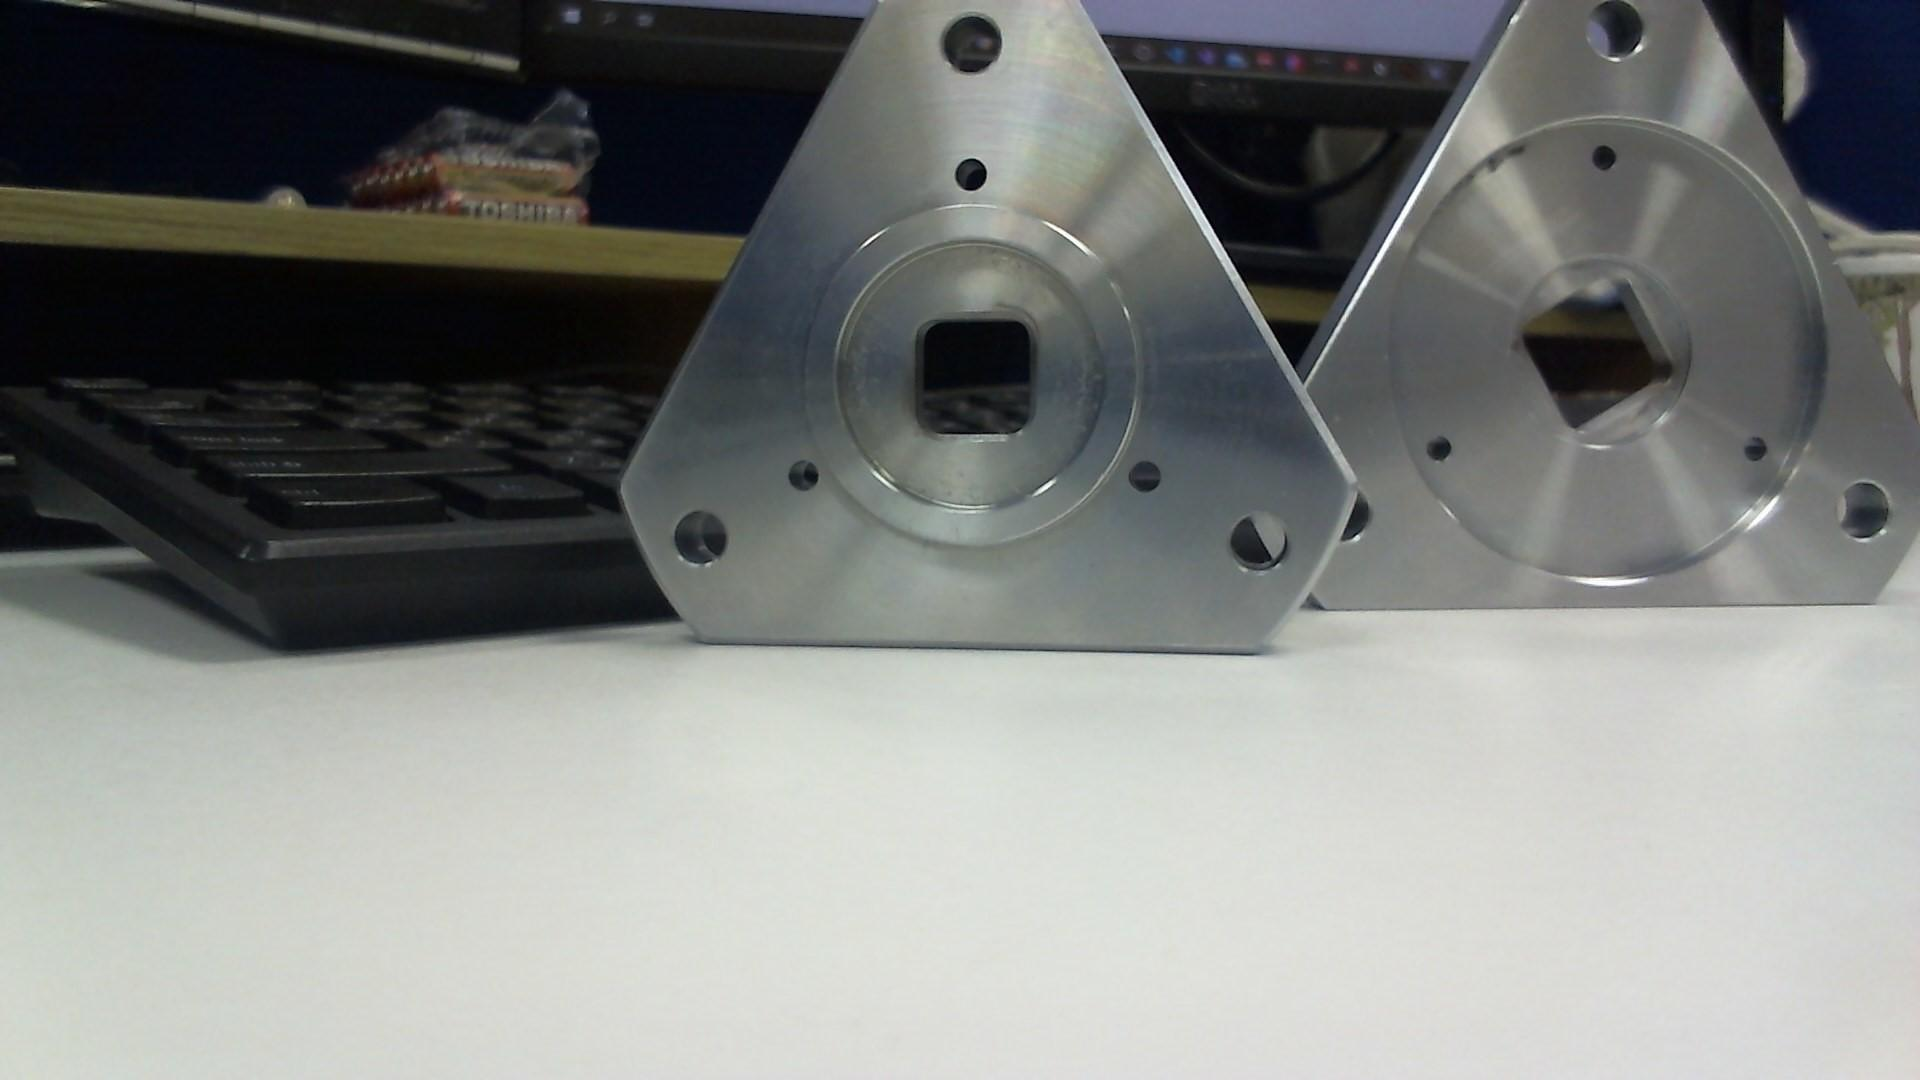hole: (1572, 0, 1658, 66), (1834, 469, 1900, 550), (936, 8, 1004, 79), (1228, 506, 1294, 575), (670, 502, 733, 567)
